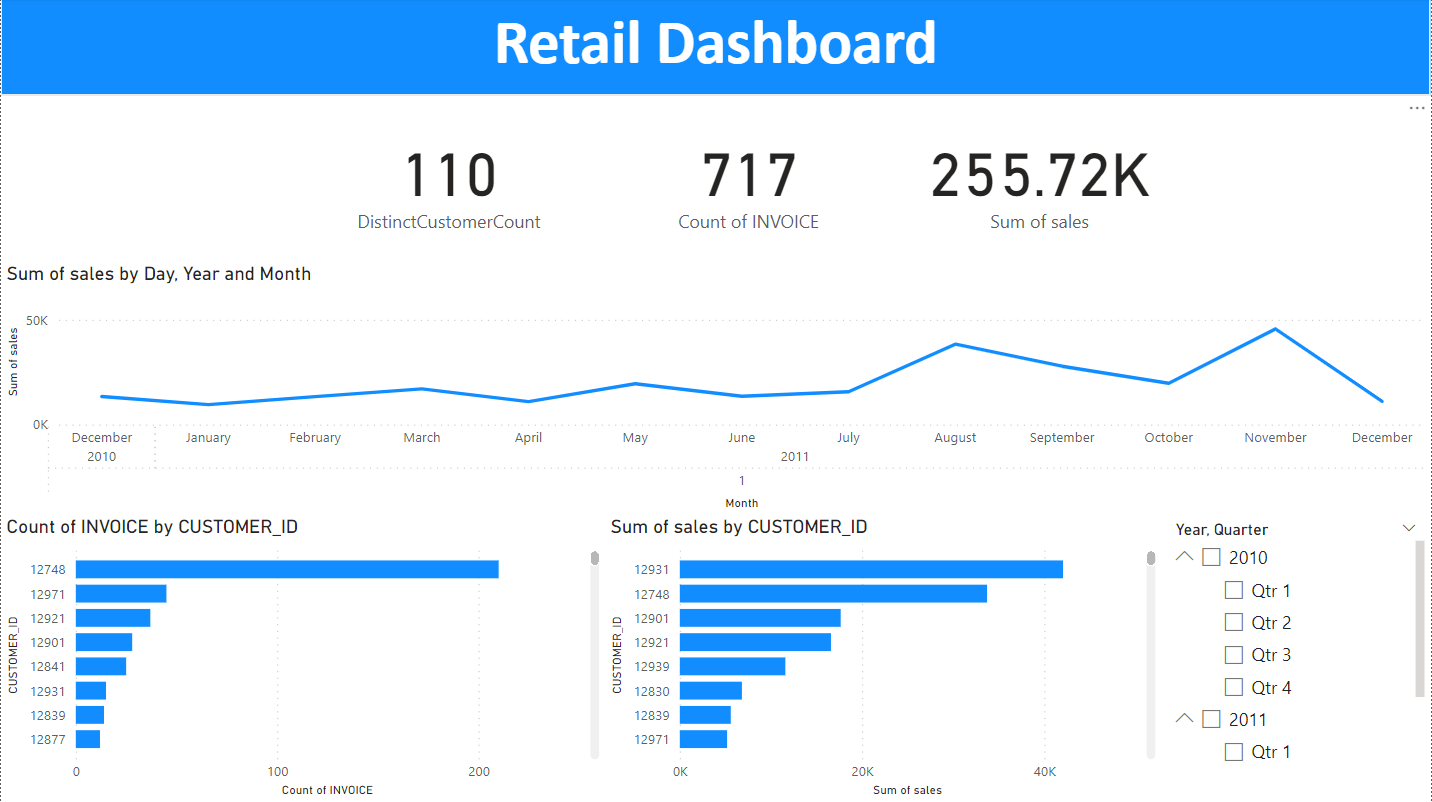

Layout of this report page (visuals, bound fields, positions):
{"tool":"powerbi","page":{"name":"Retail","canvas":[1280,720],"ordinal":0},"visuals":[{"type":"card","fields":{"Values":["retail.DistinctCustomerCount"]},"box":[261.6,86.6,279.1,149.8],"z":0},{"type":"card","fields":{"Values":["Sum(retail.sales)"]},"box":[799.5,86.6,260.7,149.8],"z":1000},{"type":"barChart","fields":{"Category":["retail.CUSTOMER_ID"],"Y":["Sum(retail.sales)"]},"box":[540.8,463,498,256.8],"z":2000},{"type":"barChart","fields":{"Y":["Count(retail.INVOICE)"],"Category":["retail.CUSTOMER_ID"]},"box":[0,463,540.8,256.8],"z":3000},{"type":"card","fields":{"Values":["Count(retail.INVOICE)"]},"box":[538.8,86.6,260.7,149.8],"z":4000},{"type":"lineChart","fields":{"Y":["Sum(retail.sales)"],"Category":["retail.combinedDate.Variation.Date Hierarchy.Day","retail.combinedDate.Variation.Date Hierarchy.Year","retail.combinedDate.Variation.Date Hierarchy.Month"]},"box":[0,236.4,1280,226.6],"z":5000},{"type":"textbox","box":[0,0,1280,86.6],"z":6000},{"type":"slicer","fields":{"Values":["retail.combinedDate.Variation.Date Hierarchy.Year","retail.combinedDate.Variation.Date Hierarchy.Quarter"]},"box":[1038.8,463,241.2,229.5],"z":7000}]}

Visuals, with their boxes in screenshot pixels (x1, y1, x2, y2), scaled from the page's 1280x720 canvas onto the 1432x802 screenshot:
card - retail.DistinctCustomerCount: region(293, 96, 605, 263)
card - Sum(retail.sales): region(894, 96, 1186, 263)
barChart - retail.CUSTOMER_ID x Sum(retail.sales): region(605, 516, 1162, 801)
barChart - Count(retail.INVOICE) x retail.CUSTOMER_ID: region(0, 516, 605, 801)
card - Count(retail.INVOICE): region(603, 96, 894, 263)
lineChart - Sum(retail.sales) x retail.combinedDate.Variation.Date Hierarchy.Day: region(0, 263, 1431, 516)
textbox: region(0, 0, 1431, 96)
slicer - retail.combinedDate.Variation.Date Hierarchy.Year x retail.combinedDate.Variation.Date Hierarchy.Quarter: region(1162, 516, 1431, 771)
